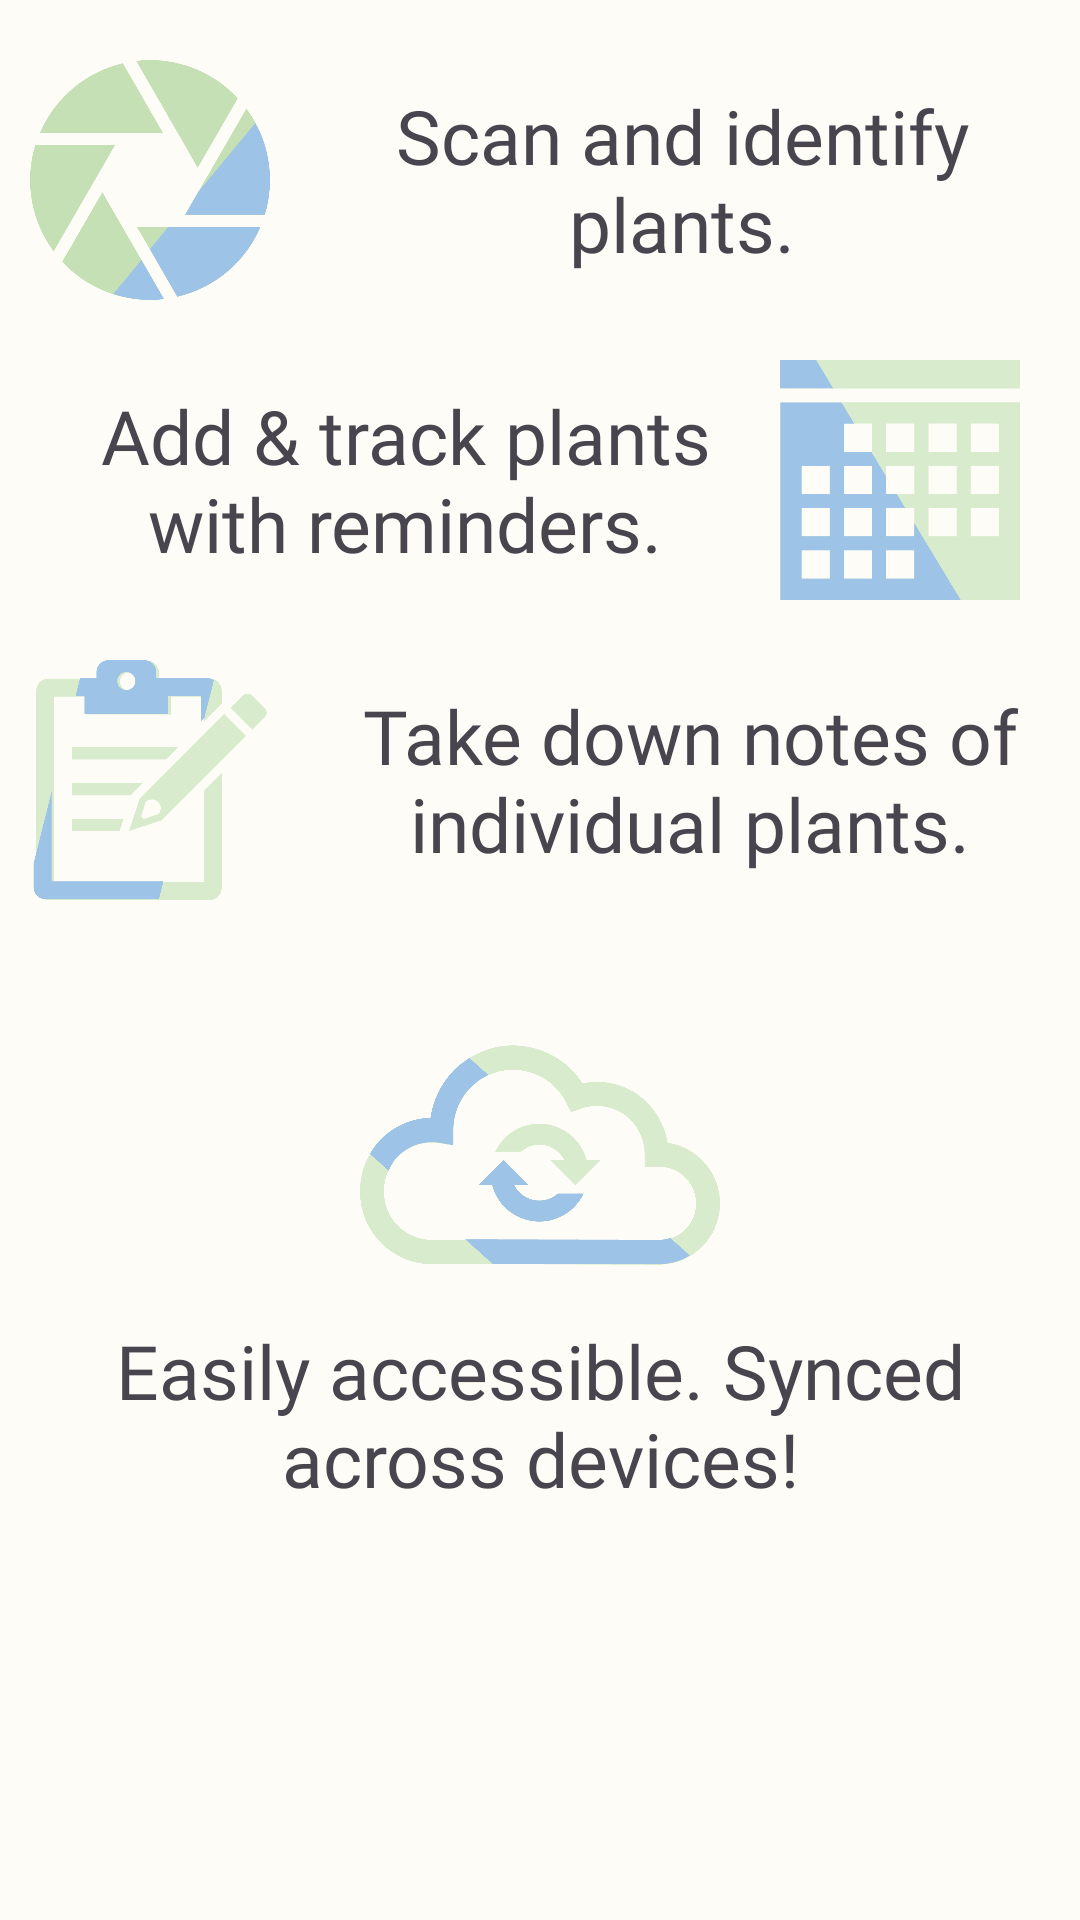

Icon bounding boxes for this 1080 × 1920 phone screenshot, format {"x1": x1, "y1": y1, "x2": x2, "y2": y2}:
notesplants: {"x1": 33, "y1": 660, "x2": 267, "y2": 900}
scancam: {"x1": 30, "y1": 60, "x2": 270, "y2": 300}
syncplants: {"x1": 360, "y1": 1045, "x2": 720, "y2": 1265}
